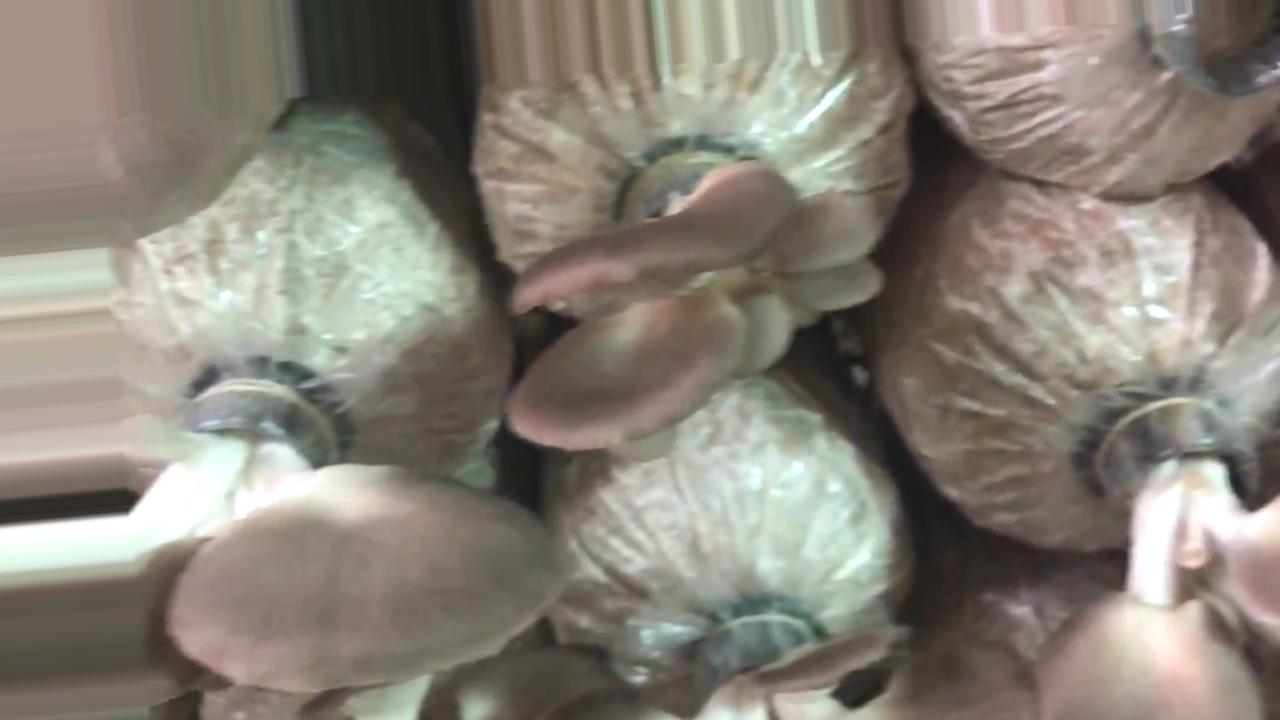nam: (127, 392, 570, 692), (503, 131, 889, 453), (1028, 403, 1280, 707)
